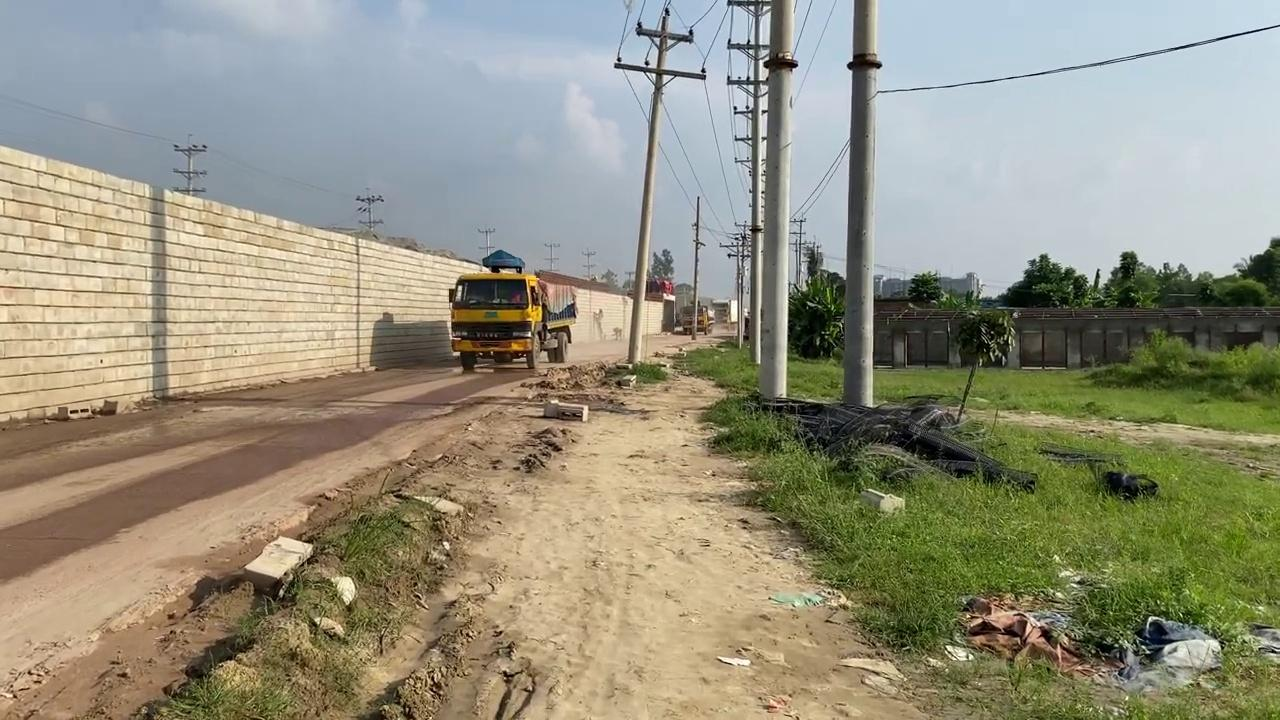Car: (678, 304, 714, 335)
Fence: (871, 305, 1278, 369)
Garbage: (742, 391, 1037, 494)
Obstacle: (542, 399, 588, 422)
Pole: (840, 0, 880, 408), (626, 8, 670, 365), (757, 0, 796, 399), (747, 2, 767, 365)
Rickshaw: (344, 342, 932, 718)
Tree: (447, 248, 576, 371)
